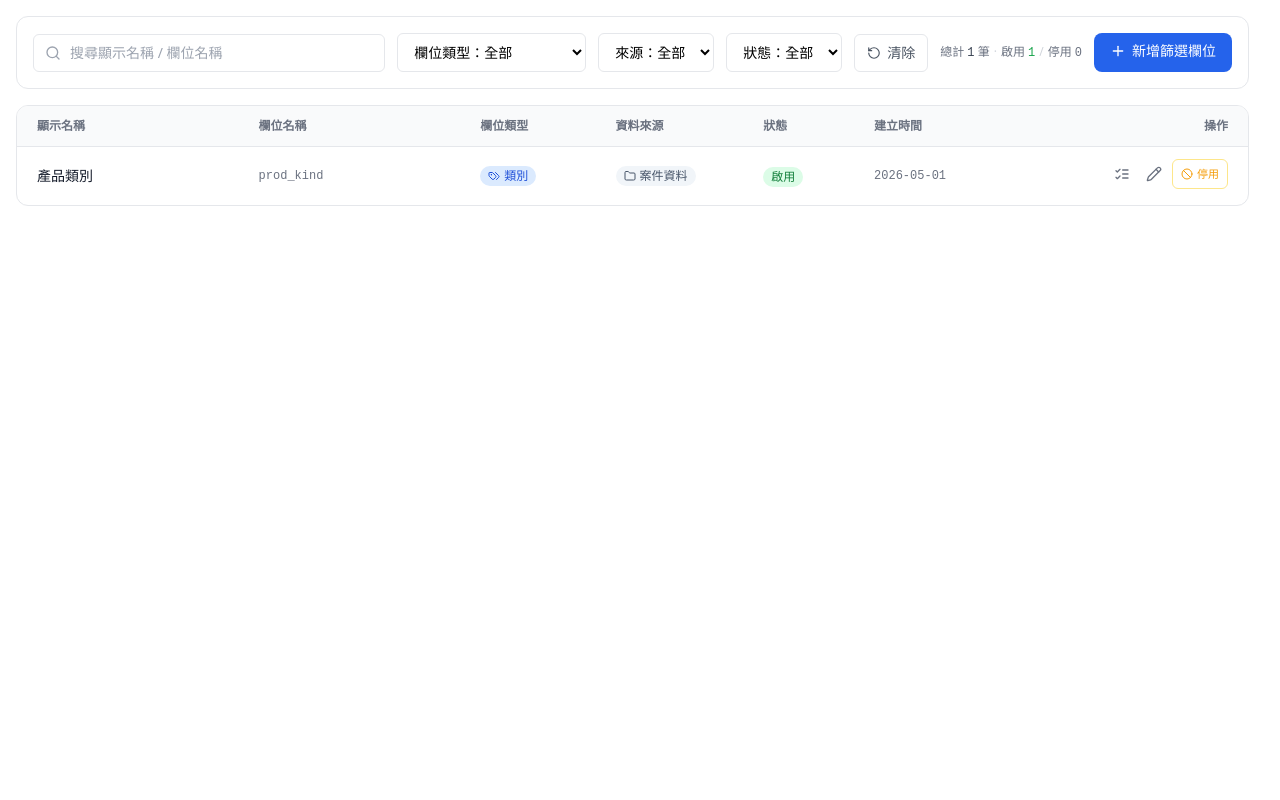
Test: FieldsTab — Phase 5d 波 4 › fields-tab-10：重選欄位時顯示名稱更新為新欄位描述（未手動改動時）
This screenshot has width=1280, height=800.
Click the button with test id "btn-create-field". click: (1163, 52)
box: [1094,33,1232,72]
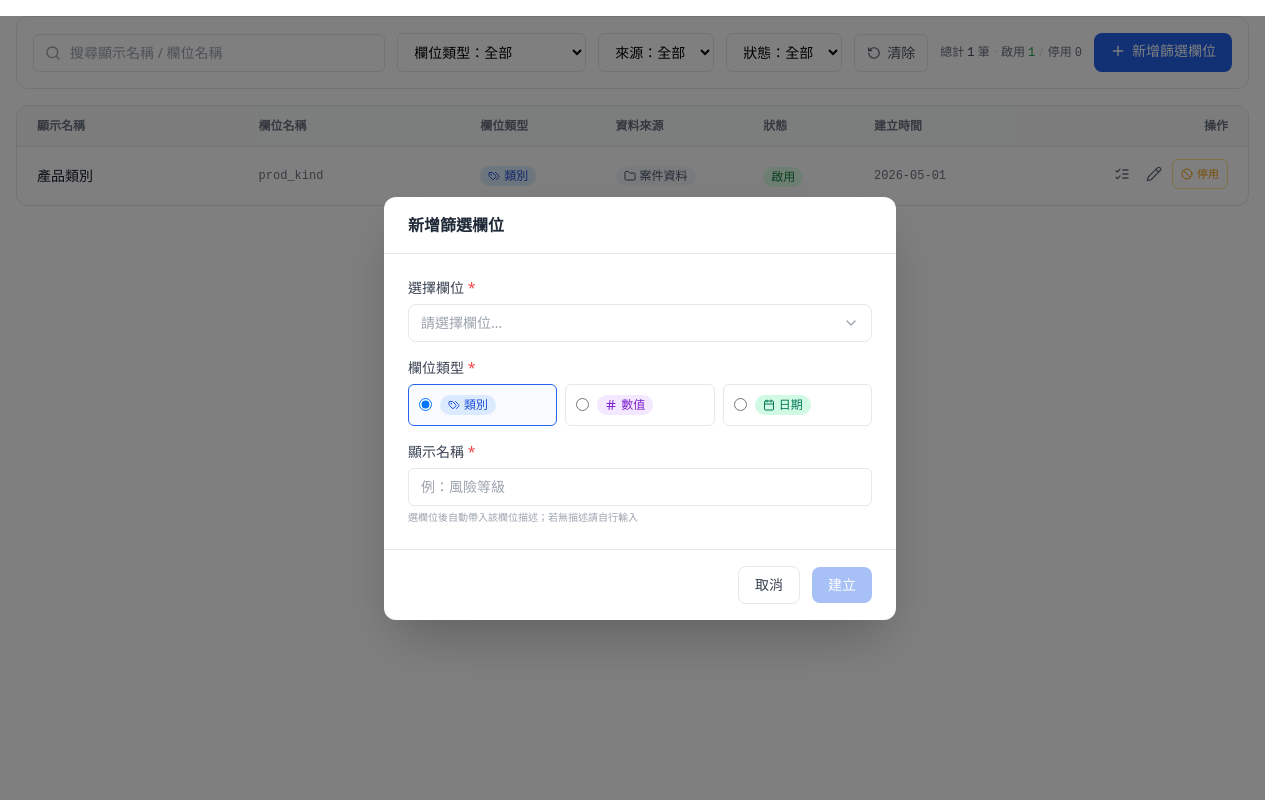
// 先選 risk_level → 顯示名稱自動帶入「風險等級」
Click the button with test id "dropdown-column-name-trigger". click: (462, 322)
box: [408,304,872,342]
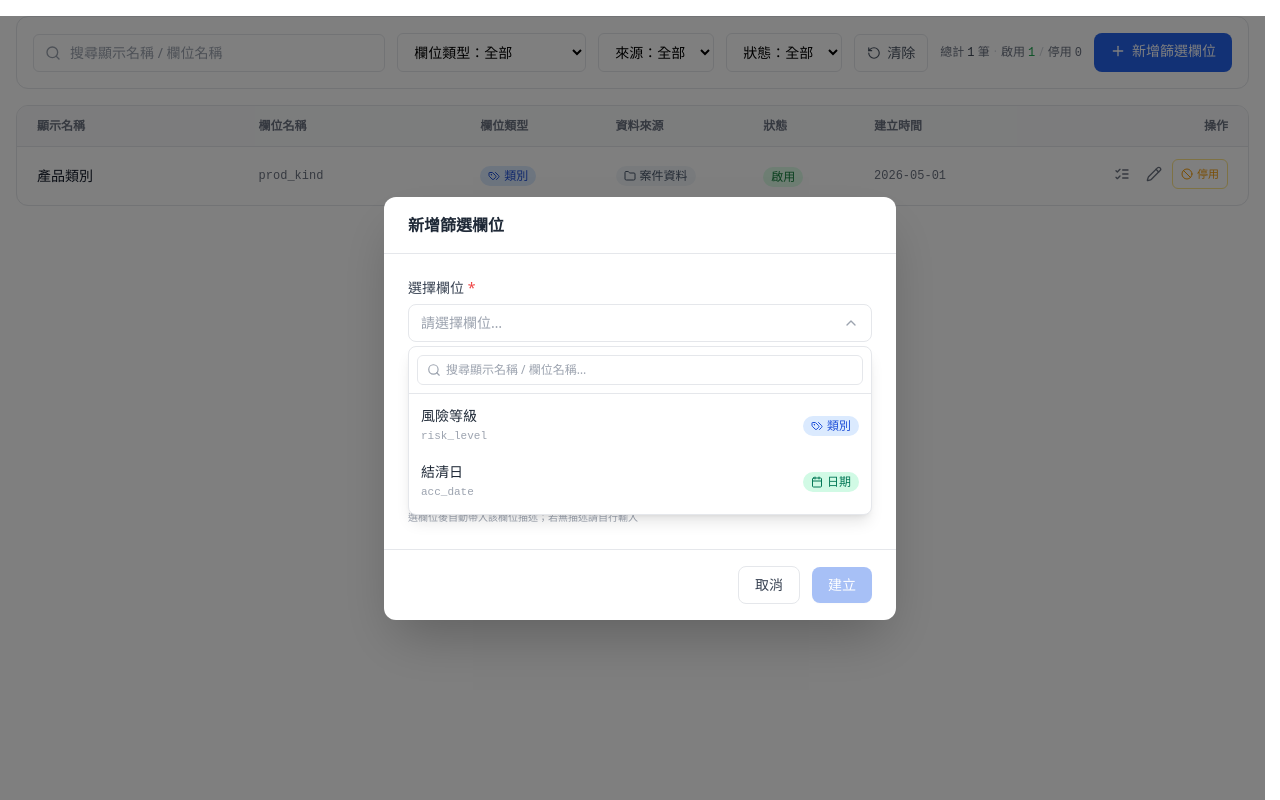
Click the option with test id "dropdown-option-risk_level". click: (449, 415)
box: [409,398,871,454]
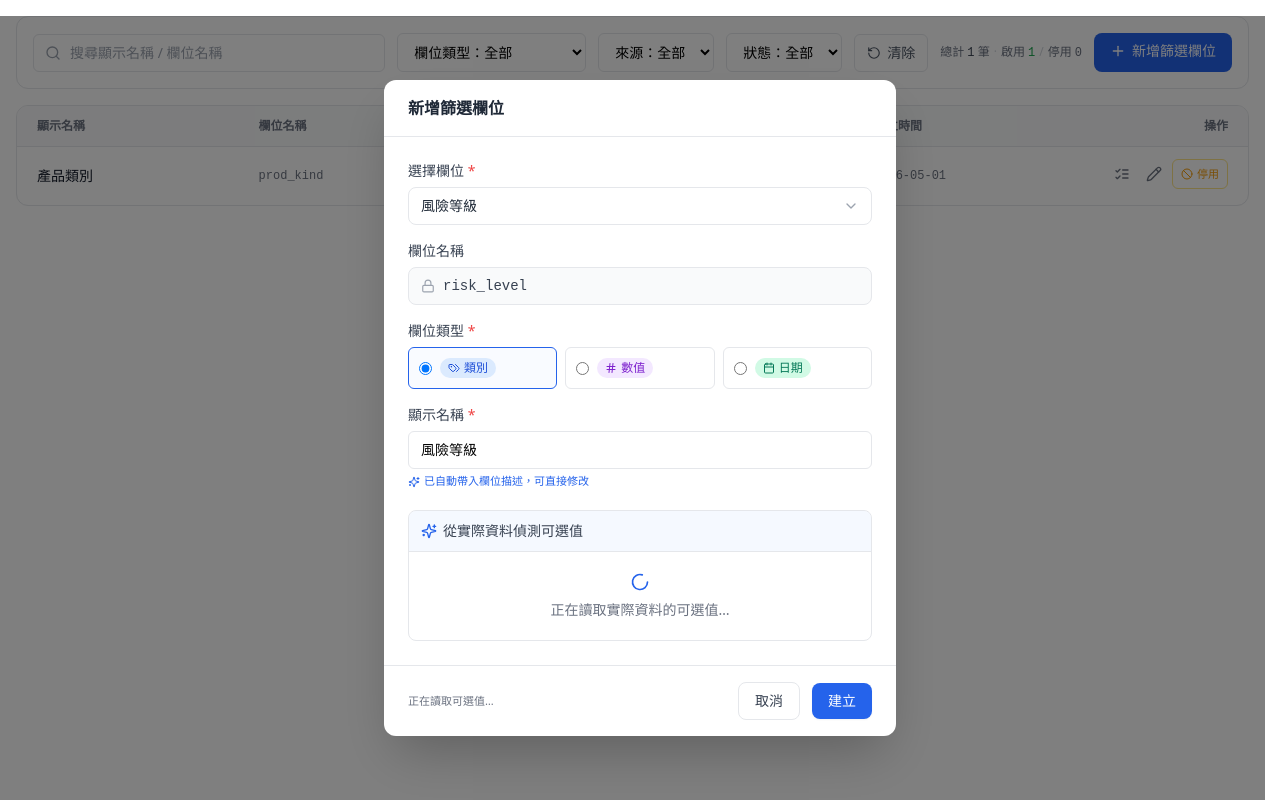
Expected: the field with test id "input-display-name" holds "風險等級", [408,431,872,469]
// 重選 acc_date（未手動改動）→ 顯示名稱應更新為「結清日」，且欄位類型帶入 date
Click the button with test id "dropdown-column-name-trigger". click: (449, 206)
box: [408,187,872,225]
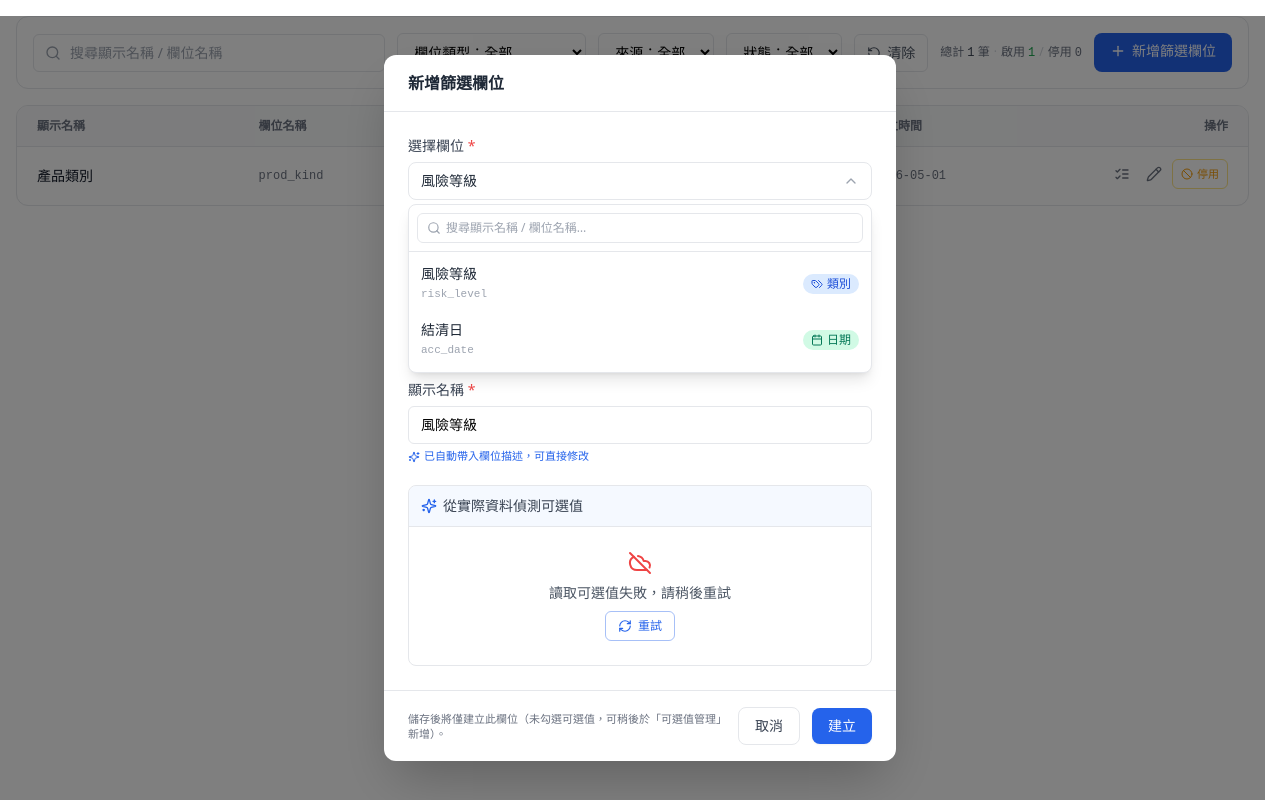
Click the option with test id "dropdown-option-acc_date". click: (442, 330)
box: [409,312,871,368]
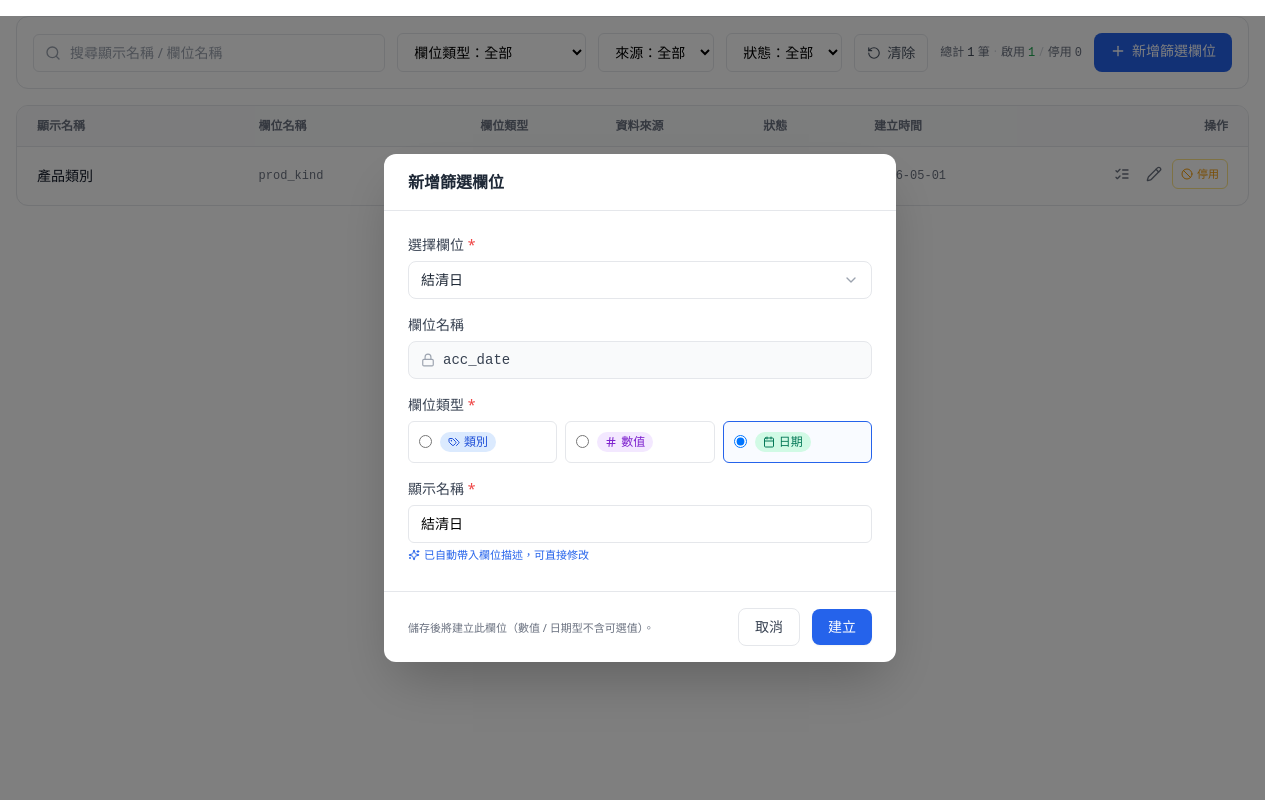
Expected: the field with test id "input-display-name" holds "結清日", [408,505,872,543]
Expected: the radio button with test id "field-type-radio-date" is checked, [734,435,747,448]
